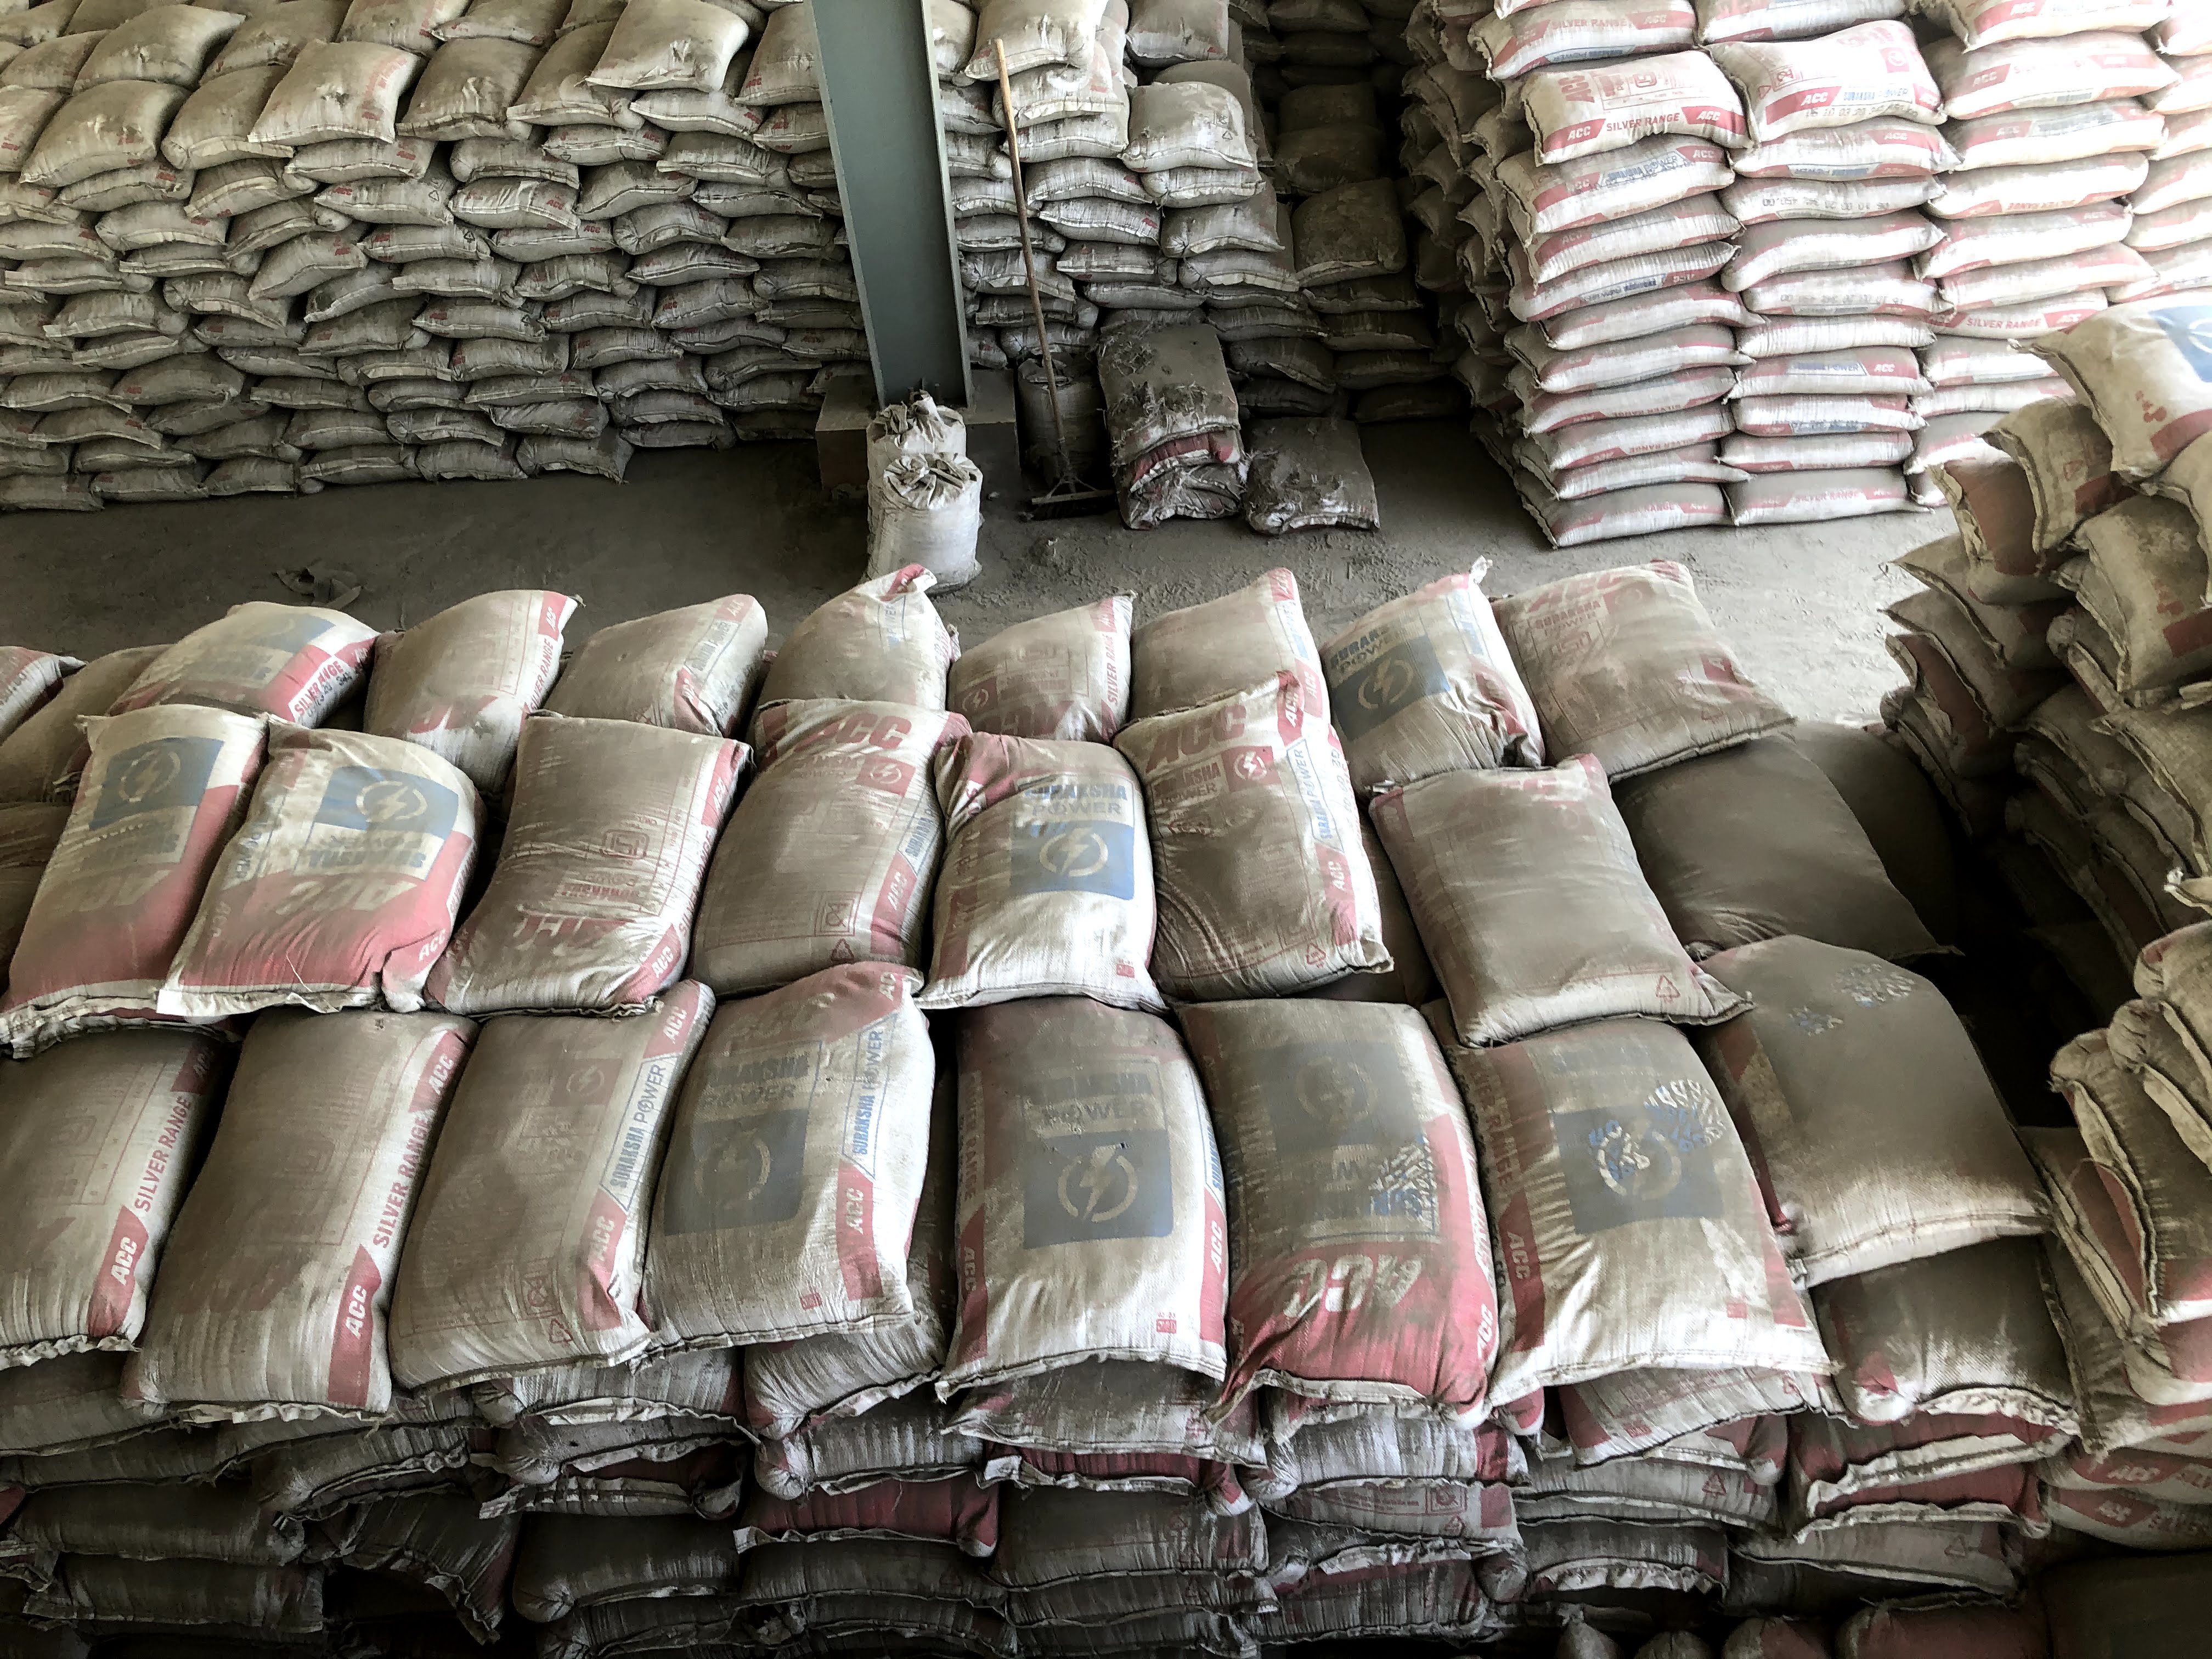cement bag: (1439, 1007, 1855, 1389), (1176, 992, 1500, 1427), (131, 999, 453, 1434), (1686, 934, 2073, 1293), (394, 995, 712, 1373), (949, 1007, 1244, 1387), (150, 713, 482, 1019), (423, 711, 758, 1011), (1367, 760, 1724, 1039), (648, 965, 918, 1326), (1104, 667, 1402, 985), (679, 697, 989, 983), (1609, 723, 1942, 979), (28, 704, 273, 1025), (1467, 558, 1801, 775), (0, 1033, 223, 1351), (913, 730, 1162, 1011), (1320, 572, 1545, 798), (359, 596, 580, 782), (78, 601, 392, 730), (531, 598, 766, 748), (747, 566, 958, 723), (1127, 568, 1334, 723), (948, 591, 1141, 739)
